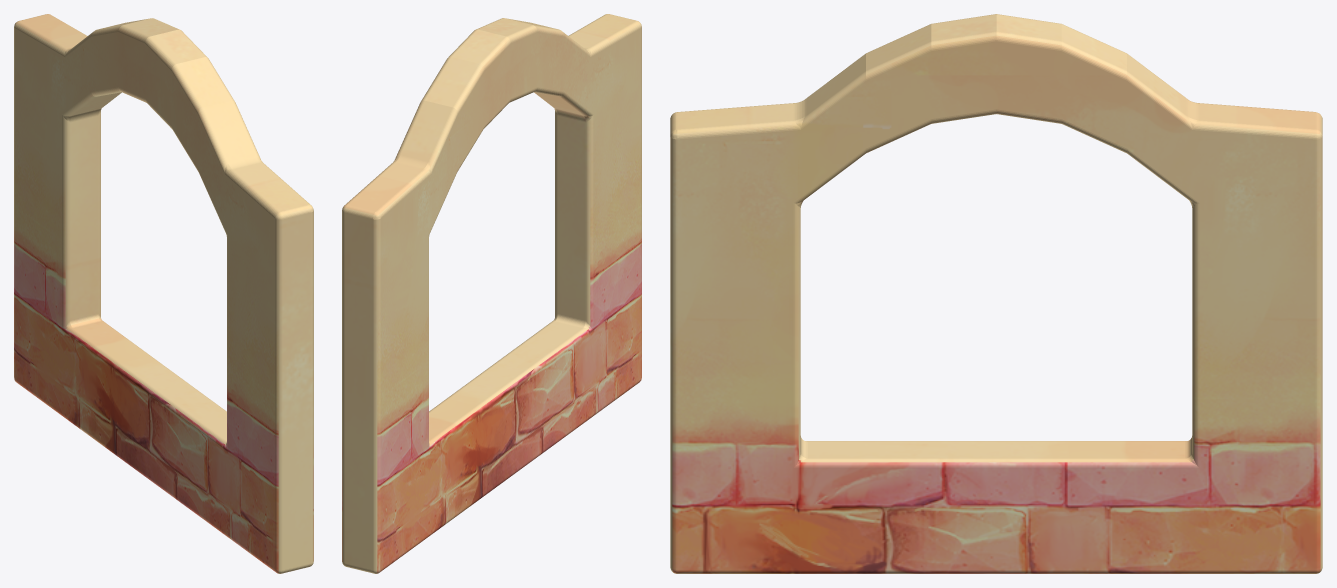
File: Pared_lateral.fbx
The picture shows the model from 3 angles, left to right: view 1: azimuth 30°, elevation 25°; view 2: azimuth 150°, elevation 25°; view 3: azimuth 270°, elevation 25°; orthographic projection. The views are drawn at different scales.
Visible parts, largest first — view 1: Pared_lateral; view 2: Pared_lateral; view 3: Pared_lateral.
Boxes of the visible parts, box(x1,y1,x2,y2) form: Pared_lateral: box(14, 14, 313, 573); Pared_lateral: box(342, 14, 641, 573); Pared_lateral: box(670, 14, 1322, 573).
Size of the model in its own units: 99.17 by 1100 by 1200.
